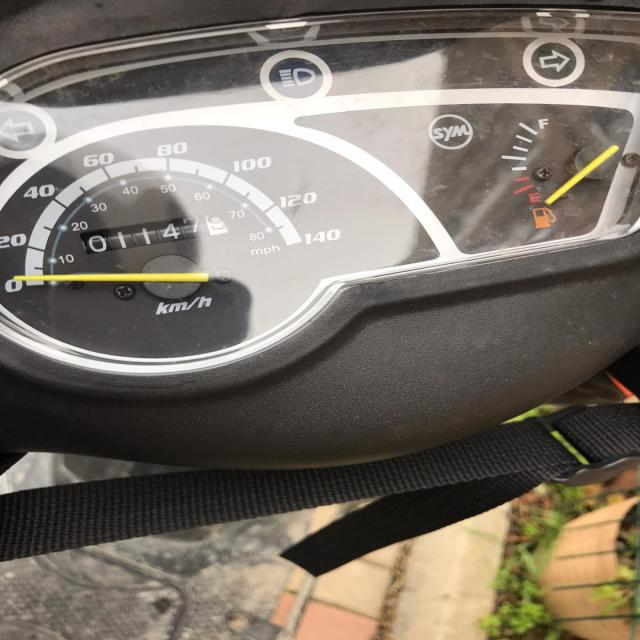odometer: (77, 212, 231, 258)
